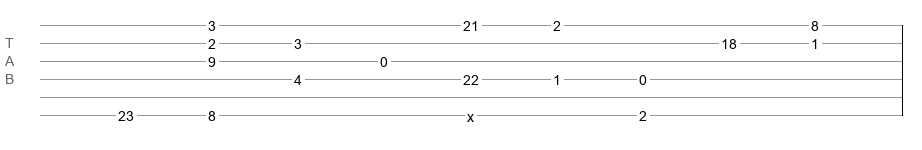0: (380, 54, 388, 64), (639, 72, 647, 82)
1: (553, 72, 561, 82), (811, 36, 819, 46)
18: (721, 36, 737, 46)
2: (208, 36, 216, 46), (553, 18, 561, 28), (639, 108, 647, 118)
21: (463, 18, 479, 28)
22: (463, 72, 479, 82)
23: (118, 108, 134, 118)
3: (208, 18, 216, 28), (294, 36, 302, 46)
4: (294, 72, 302, 82)
8: (208, 108, 216, 118), (811, 18, 819, 28)
9: (208, 54, 216, 64)
x: (467, 109, 474, 117)
